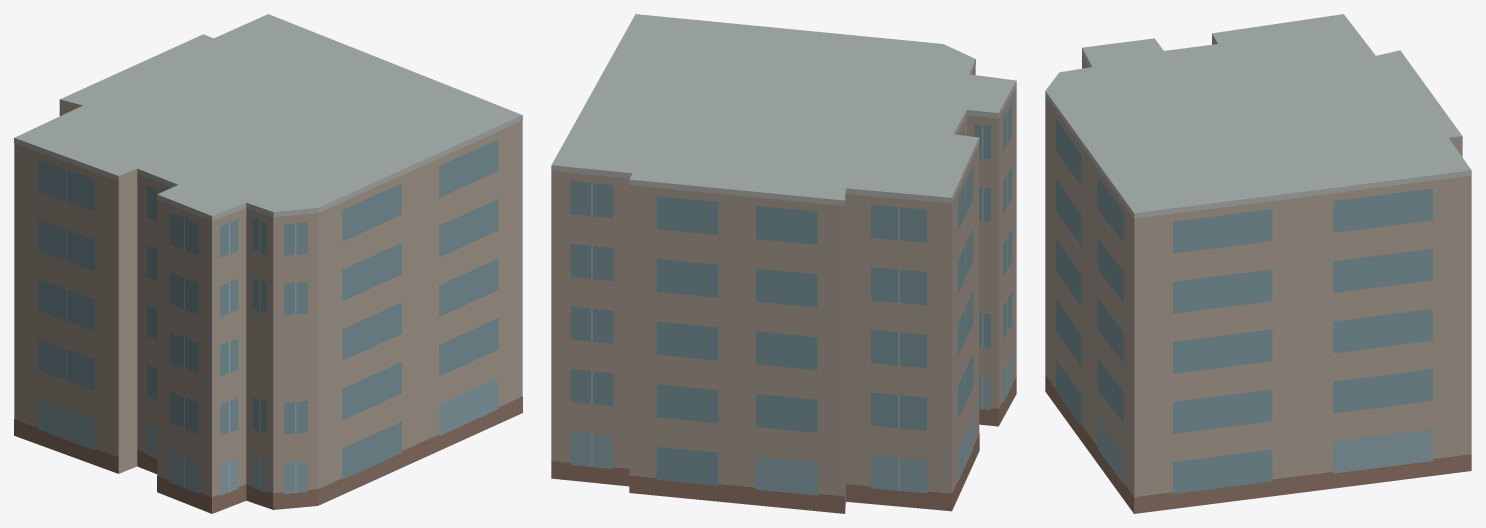
File: survey-upis-32615554.glb
3 views of the same model, side by side, from view 1: azimuth 30°, elevation 25°; view 2: azimuth 150°, elevation 25°; view 3: azimuth 270°, elevation 25° (orthographic). The views are drawn at different scales.
Visible parts, largest first — view 1: survey-upis-32615554.tmp; view 2: survey-upis-32615554.tmp; view 3: survey-upis-32615554.tmp.
Boxes of the visible parts, x1,y1,x2,y2 form: survey-upis-32615554.tmp: (14,14,522,513); survey-upis-32615554.tmp: (551,14,1016,513); survey-upis-32615554.tmp: (1045,14,1471,513).
Size of the model in its own units: 19.63 by 13.8 by 17.75.
